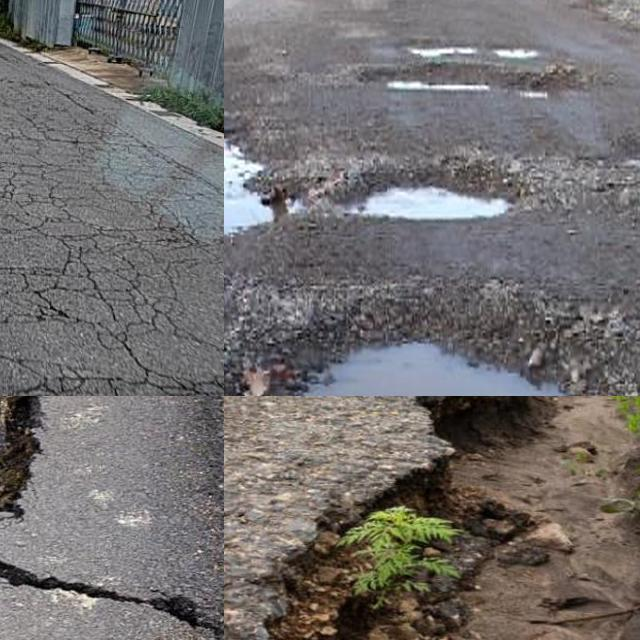Lubang: (262, 318, 610, 396), (345, 166, 539, 229), (224, 135, 300, 244), (373, 65, 560, 102)
Pinggir: (227, 396, 565, 640), (0, 396, 224, 637)
Retak Buaya: (0, 56, 224, 396)
